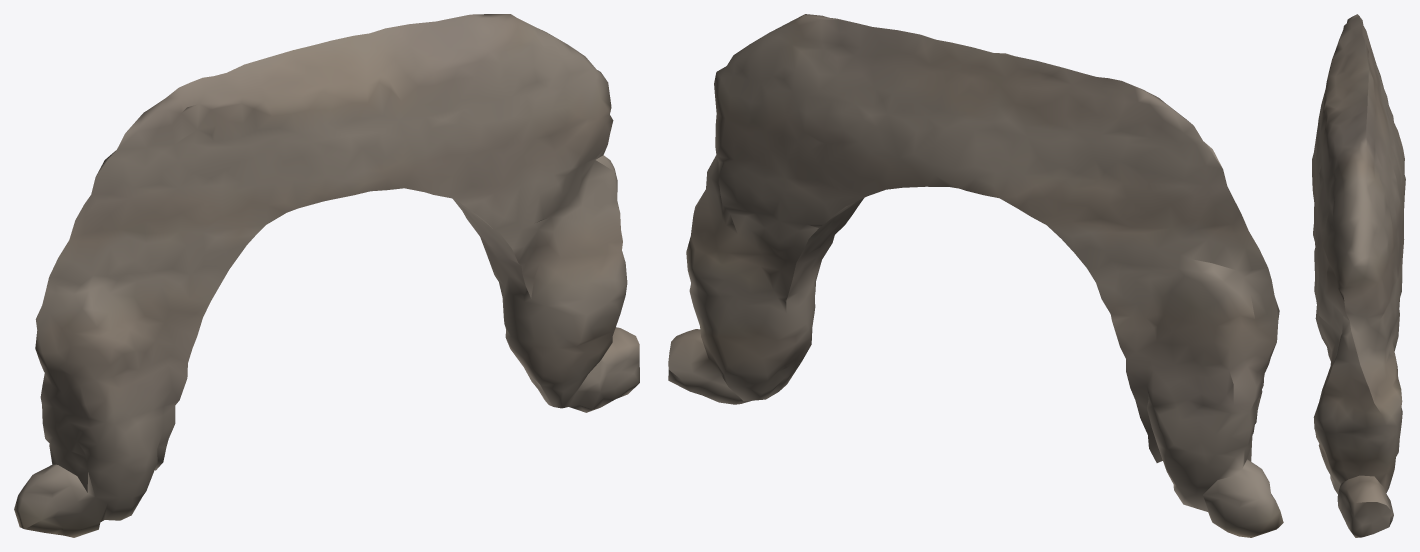
The model's file is rock_arch_cave.glb.
3 views of the same model, side by side, from view 1: azimuth 30°, elevation 25°; view 2: azimuth 150°, elevation 25°; view 3: azimuth 270°, elevation 25° (orthographic). The views are drawn at different scales.
Visible parts, largest first — view 1: rock_arch_cave; view 2: rock_arch_cave; view 3: rock_arch_cave.
Boxes of the visible parts, <box> form: rock_arch_cave: <box>14,14,639,537</box>; rock_arch_cave: <box>668,14,1283,537</box>; rock_arch_cave: <box>1312,14,1405,537</box>.
Bounding box in the file's own units: 4.5 × 3.01 × 0.72.
